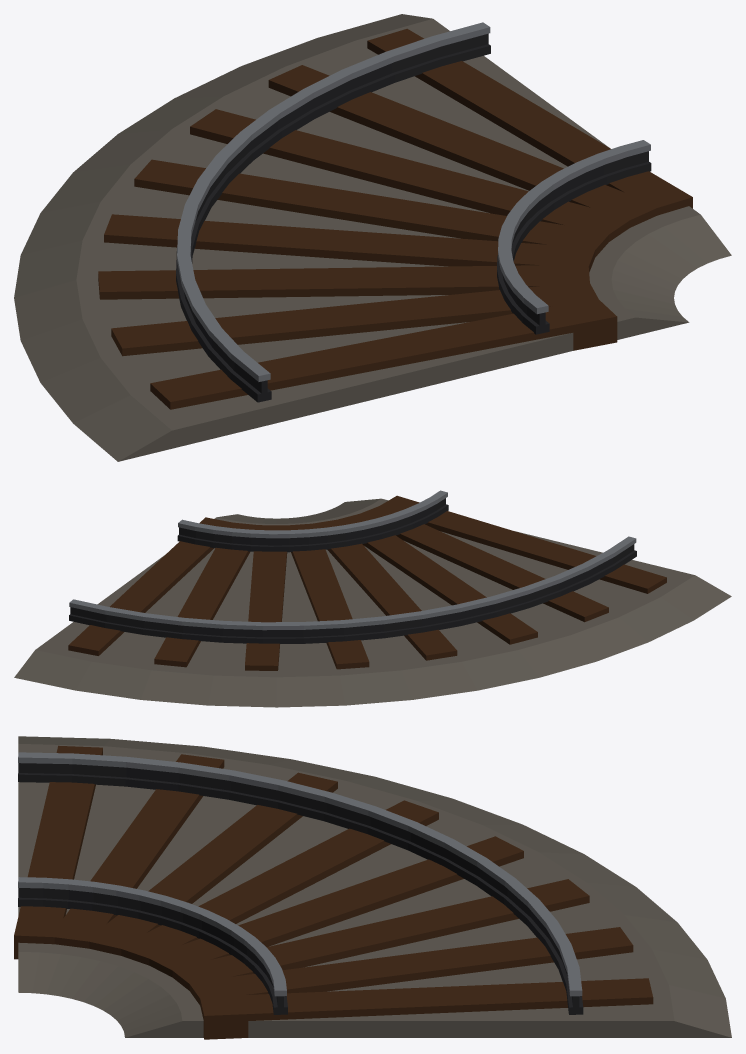
The model's file is SM_Rail_Corner.obj.
3 views of the same model, one above another, from view 1: azimuth 30°, elevation 25°; view 2: azimuth 150°, elevation 25°; view 3: azimuth 270°, elevation 25° (orthographic). The views are drawn at different scales.
Visible parts, largest first — view 1: SM_Rail_Corner; view 2: SM_Rail_Corner; view 3: SM_Rail_Corner.
Part boxes in pixels (<box>): SM_Rail_Corner: <box>14,14,731,461</box>; SM_Rail_Corner: <box>14,490,731,707</box>; SM_Rail_Corner: <box>14,736,731,1039</box>.
Bounding box in the file's own units: 3.5 × 0.254 × 3.5.
